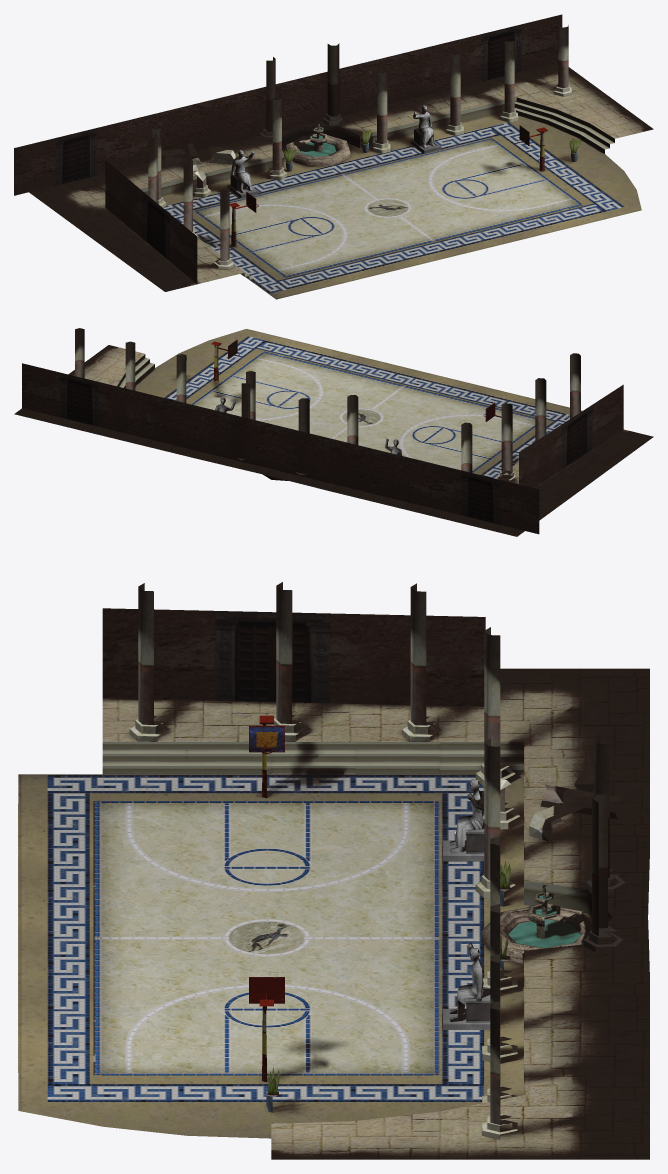
Rendered from court_roman_mesh.fbx.
3 views of the same model, one above another, from view 1: azimuth 30°, elevation 25°; view 2: azimuth 150°, elevation 25°; view 3: azimuth 270°, elevation 25° (orthographic). The views are drawn at different scales.
Parts seen in each view (by area): view 1: court_roman_mesh; view 2: court_roman_mesh; view 3: court_roman_mesh.
Boxes of the visible parts, left/top/right/bottom form: court_roman_mesh: left=14, top=14, right=653, bottom=299; court_roman_mesh: left=14, top=328, right=653, bottom=536; court_roman_mesh: left=18, top=582, right=649, bottom=1159.
Bounding box in the file's own units: 174 × 27.83 × 92.07.
